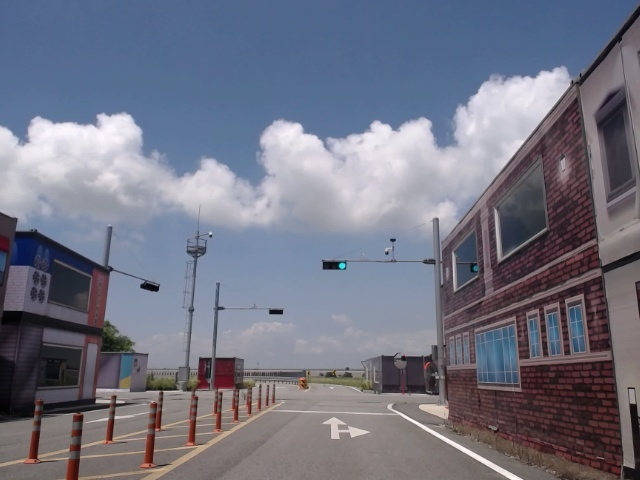green_3: (323, 261, 346, 269)
